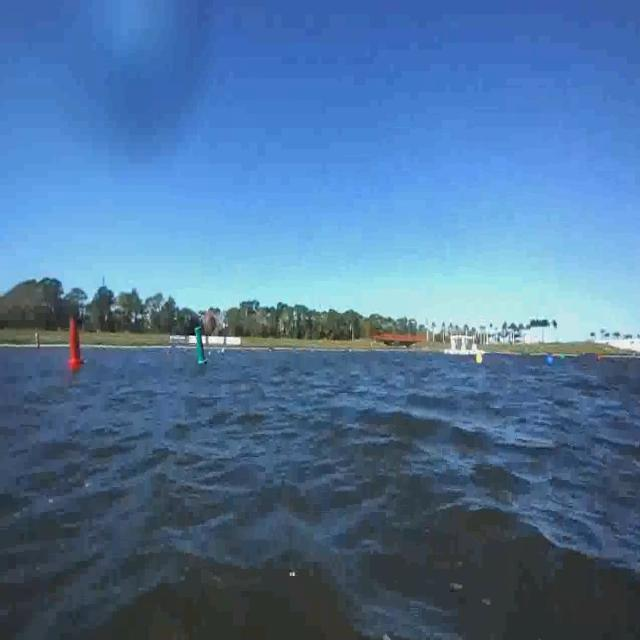green-column-buoy: (195, 326, 209, 367)
red-column-buoy: (66, 318, 84, 369)
